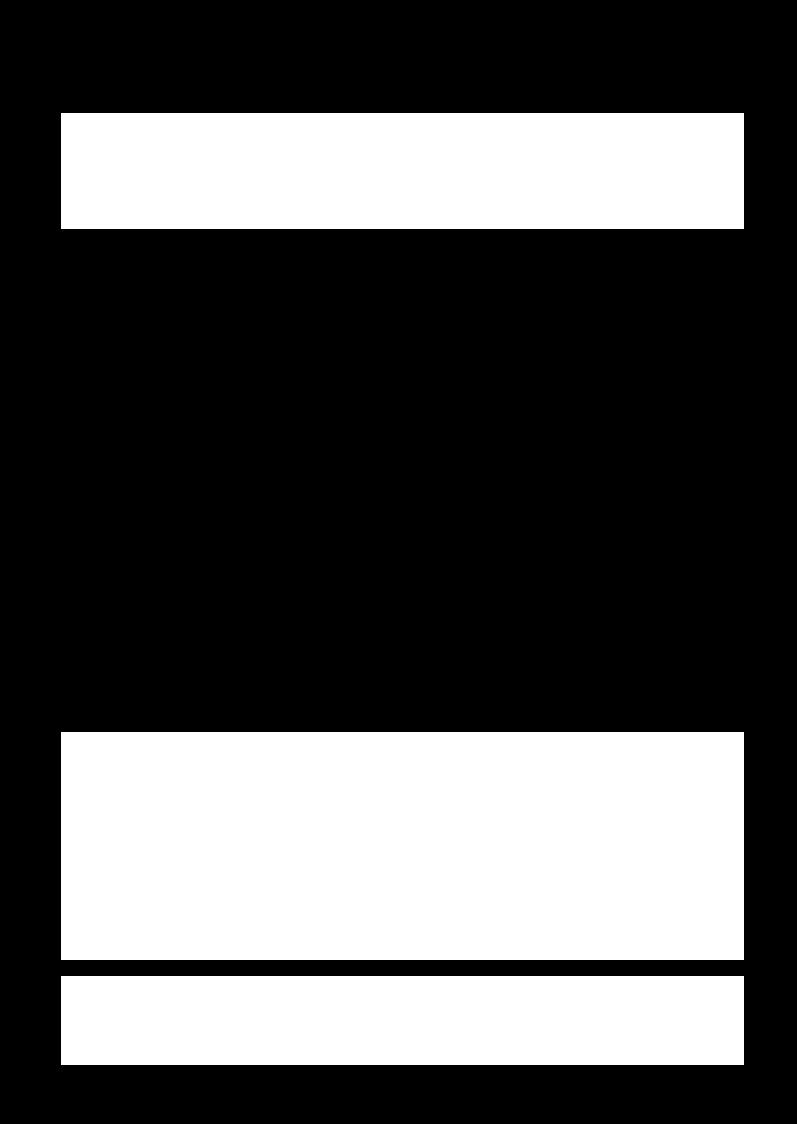table: (61, 732, 743, 959), (61, 113, 743, 228), (61, 976, 743, 1064)
